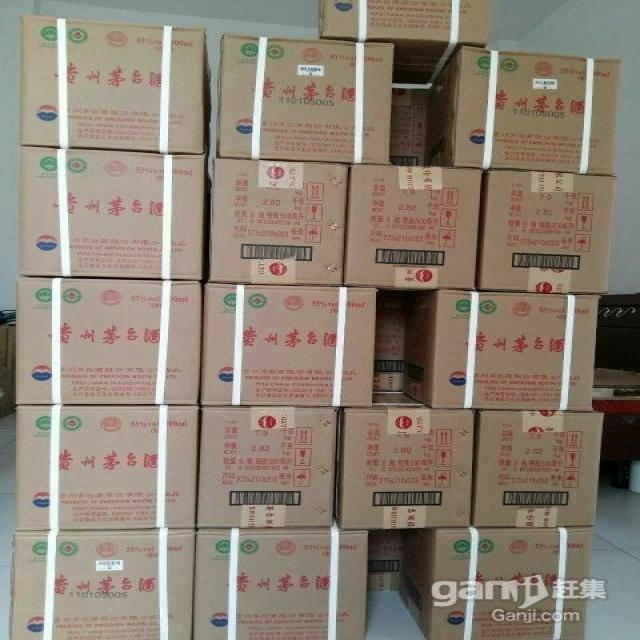box: (19, 14, 212, 154), (17, 146, 211, 280), (424, 46, 621, 175), (15, 276, 203, 405), (403, 290, 603, 410), (399, 519, 596, 639), (15, 404, 200, 531), (216, 34, 393, 164), (199, 282, 381, 407), (192, 517, 368, 640), (9, 528, 196, 640), (335, 391, 477, 530), (344, 163, 484, 292), (208, 159, 349, 286), (196, 406, 341, 528), (476, 168, 615, 293), (469, 408, 605, 527), (319, 0, 493, 84), (373, 288, 413, 392), (391, 84, 432, 165), (367, 529, 407, 591)
